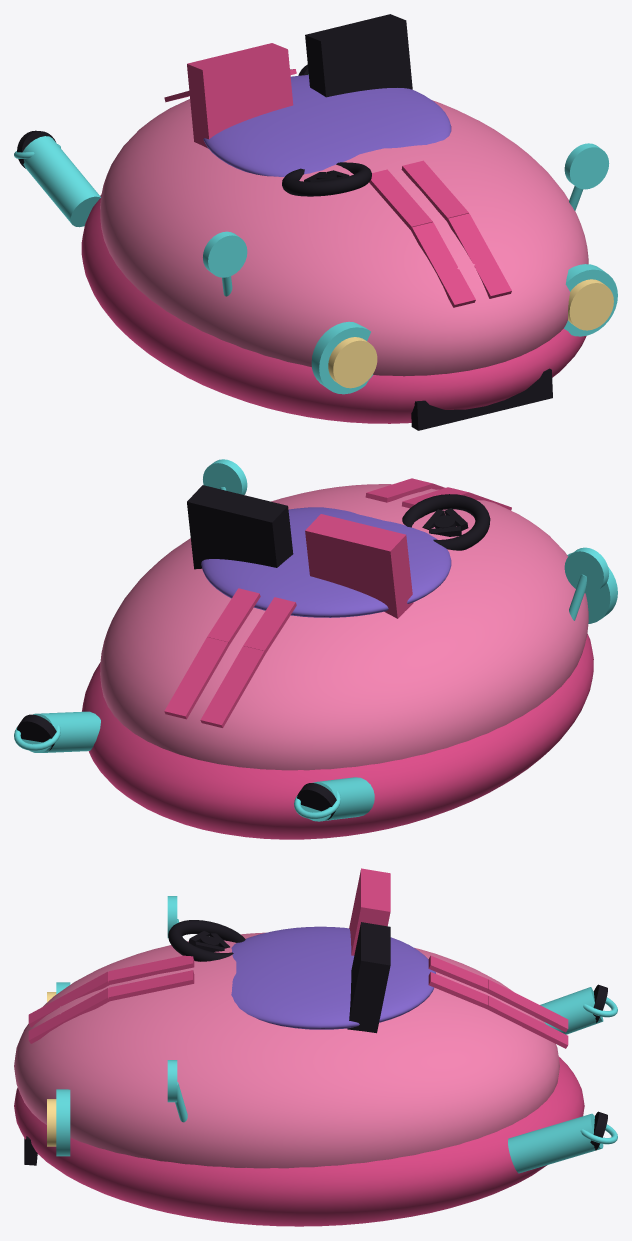
Rendered from A008-14-berry-pop--racerpop-counterpart-runtime-v1.glb.
The picture shows the model from 3 angles, top to bottom: view 1: azimuth 30°, elevation 25°; view 2: azimuth 150°, elevation 25°; view 3: azimuth 270°, elevation 25°; orthographic projection. The views are drawn at different scales.
Parts seen in each view (by area): view 1: LP39_RACERPOP_Body_Part_01; view 2: LP39_RACERPOP_Body_Part_01; view 3: LP39_RACERPOP_Body_Part_01.
Part boxes in pixels (x1,y1,x2,y2): LP39_RACERPOP_Body_Part_01: (14,14,617,430); LP39_RACERPOP_Body_Part_01: (14,459,617,839); LP39_RACERPOP_Body_Part_01: (14,868,617,1226).
Size of the model in its own units: 0.729 by 0.4897 by 1.
